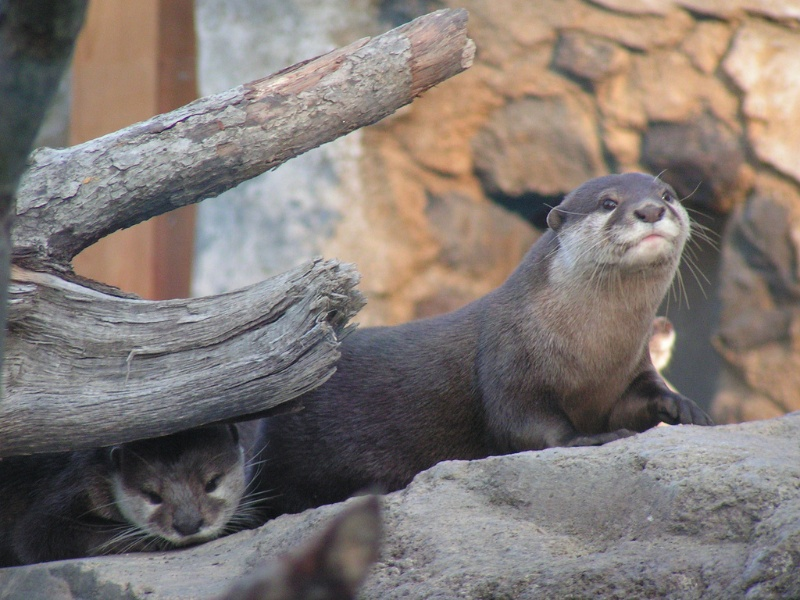minkish: (276, 162, 694, 522), (39, 389, 266, 562)
